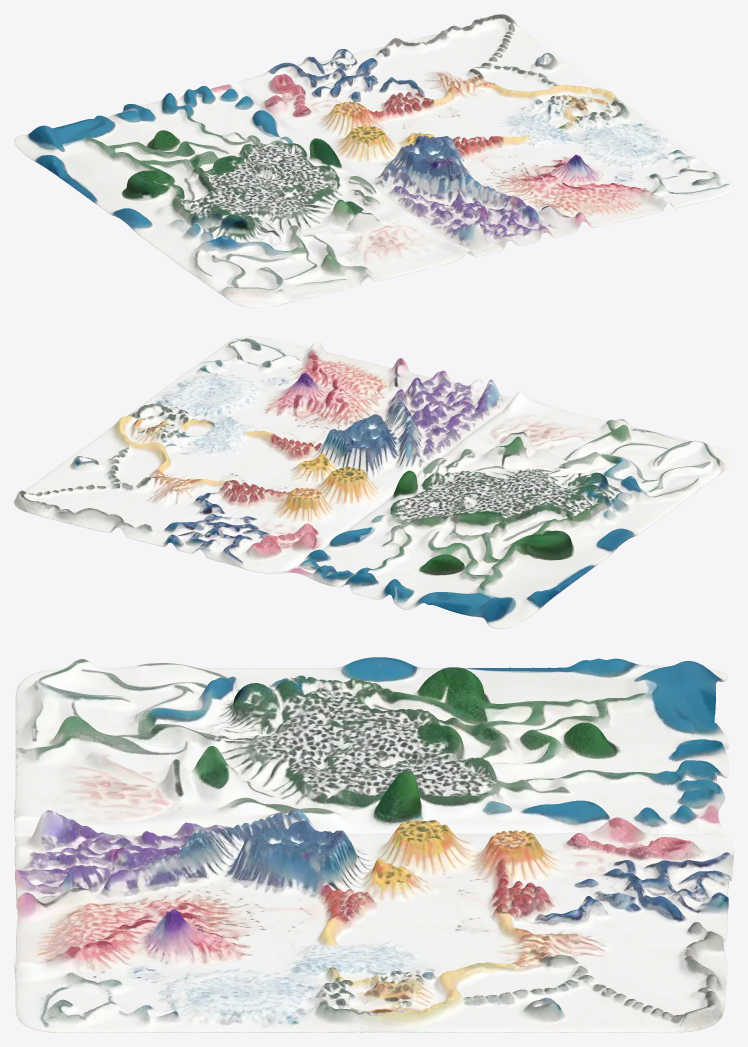
Rendered from lilith-glb.glb.
3 renders of one model, top to bottom at view 1: azimuth 30°, elevation 25°; view 2: azimuth 150°, elevation 25°; view 3: azimuth 270°, elevation 25°, orthographic. The views are drawn at different scales.
Size of the model in its own units: 1.9 by 0.1216 by 1.58.
Materials: 1 (1 with a texture image).
